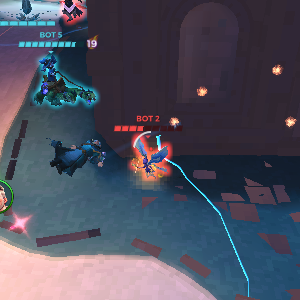model: (134, 137, 171, 184)
